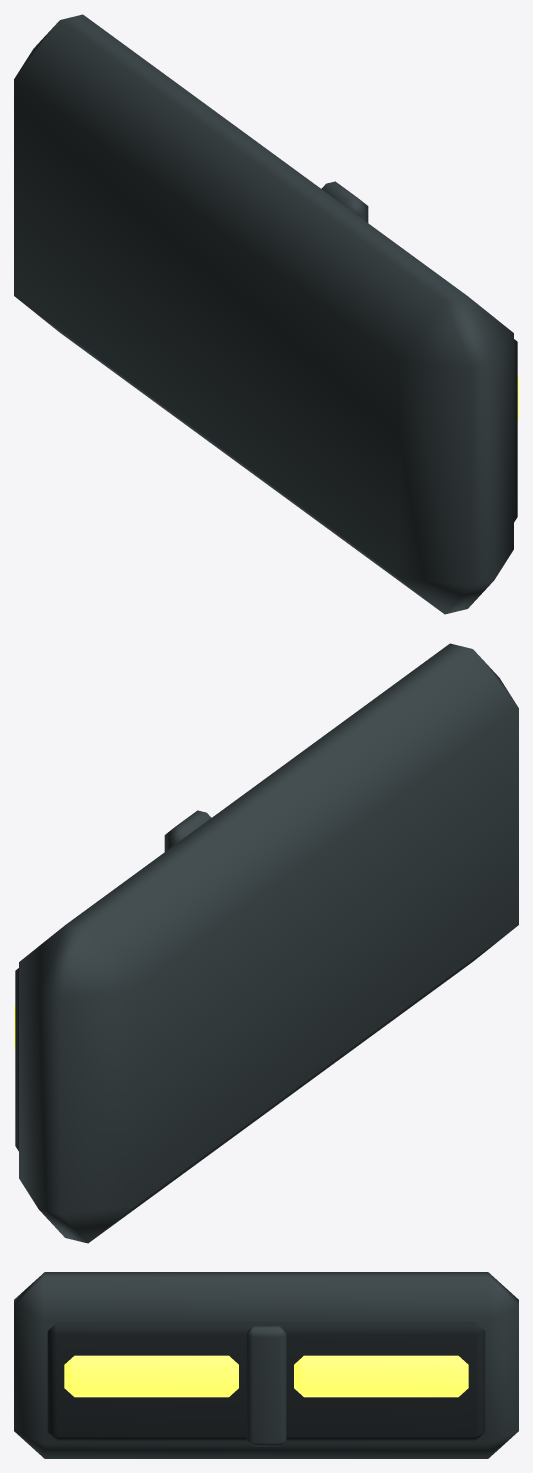
Rendered from SM_CP_RobotEye.fbx.
The picture shows the model from 3 angles, top to bottom: view 1: azimuth 30°, elevation 25°; view 2: azimuth 150°, elevation 25°; view 3: azimuth 270°, elevation 25°; orthographic projection. The views are drawn at different scales.
Parts seen in each view (by area): view 1: SM_CP_RobotEye; view 2: SM_CP_RobotEye; view 3: SM_CP_RobotEye.
Boxes of the visible parts, x1,y1,x2,y2 form: SM_CP_RobotEye: (14,14,518,614); SM_CP_RobotEye: (14,643,518,1243); SM_CP_RobotEye: (14,1272,518,1458).
Size of the model in its own units: 0.0655 by 0.33 by 0.13.
